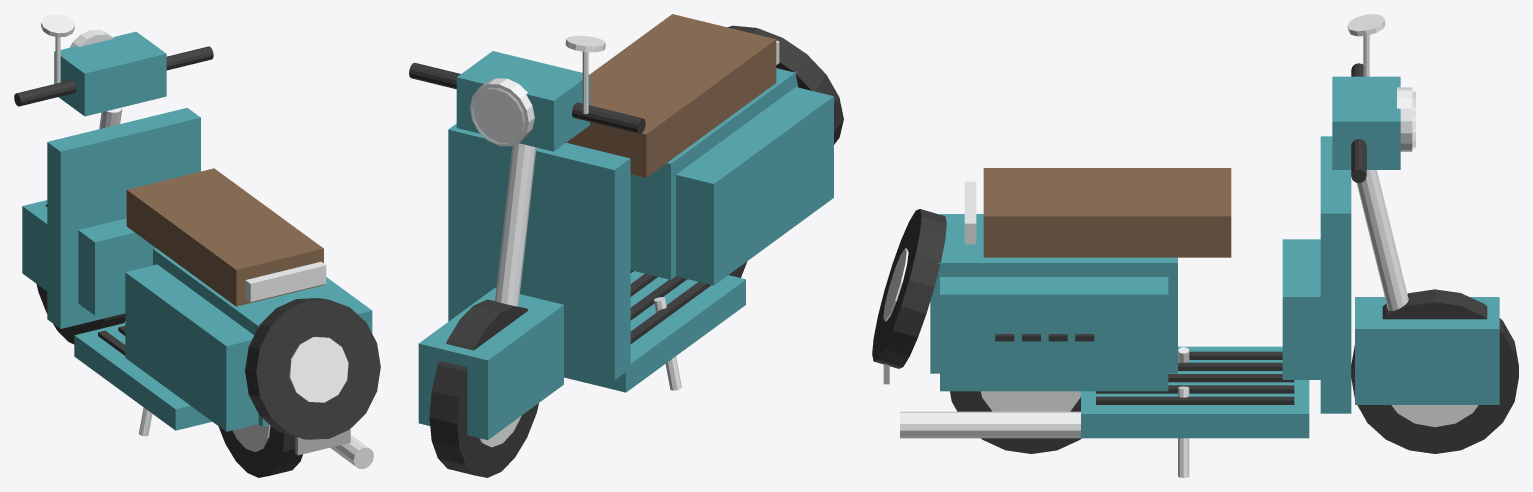
Rendered from prop_indian_scooter_01.glb.
The picture shows the model from 3 angles, left to right: view 1: azimuth 30°, elevation 25°; view 2: azimuth 150°, elevation 25°; view 3: azimuth 270°, elevation 25°; orthographic projection. The views are drawn at different scales.
Visible parts, largest first — view 1: Scooter_Legshield_Main.004, Scooter_Seat.004, Scooter_Cowl_Left.004, Scooter_Spare_Tire.004, Scooter_Handlebar_Nacelle.004, Scooter_Glovebox.004, Scooter_Floorboard.004, Scooter_Spare_Hub.004, Scooter_Rear_Center_Frame.004, Scooter_Rear_Tire.004, Scooter_Front_Fender.004, Scooter_Grab_Rail.004 (+9 smaller); view 2: Scooter_Legshield_Main.004, Scooter_Cowl_Left.004, Scooter_Seat.004, Scooter_Front_Fender.004, Scooter_Front_Tire.004, Scooter_Rear_Center_Frame.004, Scooter_Floorboard.004, Scooter_Handlebar_Nacelle.004, Scooter_Fork_Tube.004, Scooter_Headlamp_Bezel.004, Scooter_Headlamp_Glass.004, Scooter_Spare_Tire.004 (+6 smaller); view 3: Scooter_Cowl_Right.004, Scooter_Seat.004, Scooter_Front_Fender.004, Scooter_Floorboard.004, Scooter_Legshield_Main.004, Scooter_Front_Tire.004, Scooter_Rear_Center_Frame.004, Scooter_Spare_Tire.004, Scooter_Handlebar_Nacelle.004, Scooter_Glovebox.004, Scooter_Exhaust_Pipe.004, Scooter_Fork_Tube.004 (+12 smaller).
Boxes of the visible parts, <box> form: Scooter_Legshield_Main.004: <box>47,107,200,328</box>; Scooter_Seat.004: <box>126,168,323,306</box>; Scooter_Cowl_Left.004: <box>125,264,258,431</box>; Scooter_Spare_Tire.004: <box>245,298,380,439</box>; Scooter_Handlebar_Nacelle.004: <box>54,31,166,116</box>; Scooter_Glovebox.004: <box>78,218,155,315</box>; Scooter_Floorboard.004: <box>74,323,212,430</box>; Scooter_Spare_Hub.004: <box>289,337,348,402</box>; Scooter_Rear_Center_Frame.004: <box>153,248,332,426</box>; Scooter_Rear_Tire.004: <box>218,426,302,477</box>; Scooter_Front_Fender.004: <box>22,200,47,291</box>; Scooter_Grab_Rail.004: <box>245,261,326,301</box>; Scooter_Legshield_Main.004: <box>448,123,630,380</box>; Scooter_Cowl_Left.004: <box>676,87,833,285</box>; Scooter_Seat.004: <box>566,14,776,177</box>; Scooter_Front_Fender.004: <box>418,288,563,439</box>; Scooter_Front_Tire.004: <box>429,299,538,477</box>; Scooter_Rear_Center_Frame.004: <box>630,68,798,279</box>; Scooter_Floorboard.004: <box>564,271,745,392</box>; Scooter_Handlebar_Nacelle.004: <box>456,51,589,151</box>; Scooter_Fork_Tube.004: <box>495,143,536,306</box>; Scooter_Headlamp_Bezel.004: <box>470,78,534,146</box>; Scooter_Headlamp_Glass.004: <box>471,88,524,144</box>; Scooter_Spare_Tire.004: <box>727,25,843,144</box>; Scooter_Cowl_Right.004: <box>940,277,1168,391</box>; Scooter_Seat.004: <box>983,168,1231,257</box>; Scooter_Front_Fender.004: <box>1355,297,1499,404</box>; Scooter_Floorboard.004: <box>1081,346,1309,438</box>; Scooter_Legshield_Main.004: <box>1320,136,1351,413</box>; Scooter_Front_Tire.004: <box>1351,289,1518,453</box>; Scooter_Rear_Center_Frame.004: <box>930,218,1177,373</box>; Scooter_Spare_Tire.004: <box>872,209,946,368</box>; Scooter_Handlebar_Nacelle.004: <box>1332,76,1400,169</box>; Scooter_Glovebox.004: <box>1282,239,1320,379</box>; Scooter_Exhaust_Pipe.004: <box>900,411,1080,438</box>; Scooter_Fork_Tube.004: <box>1356,170,1408,310</box>.
Size of what is drawn, in the model's own units: 0.66 by 1.17 by 1.7.
